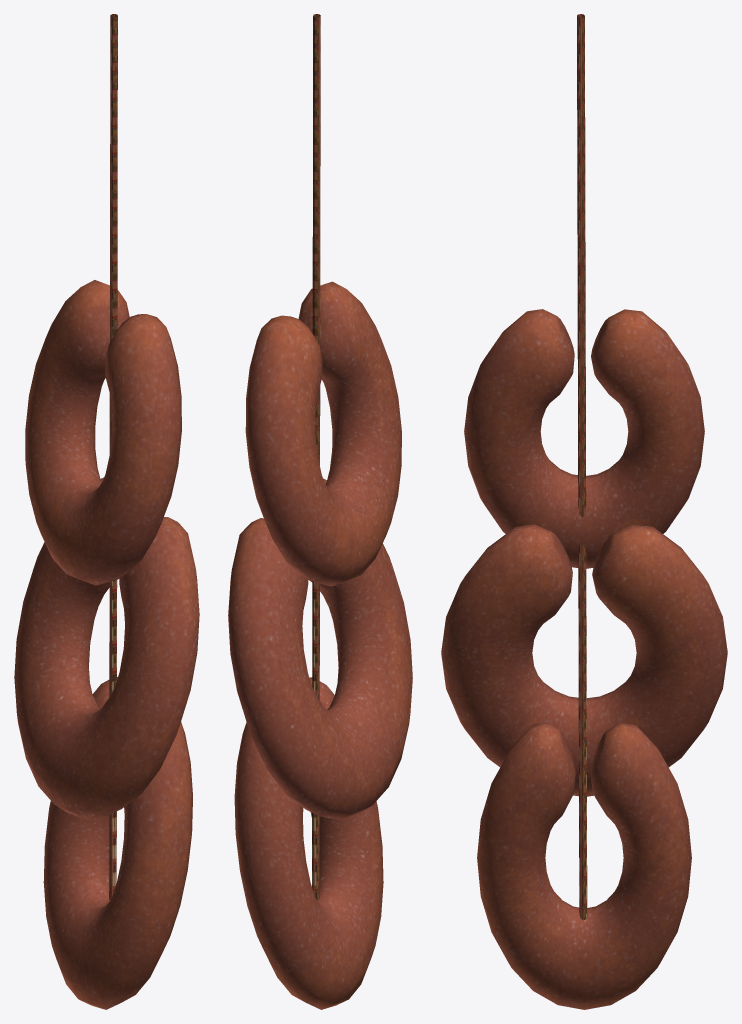
File: SM_Sausage.fbx
3 renders of one model, left to right at view 1: azimuth 30°, elevation 25°; view 2: azimuth 150°, elevation 25°; view 3: azimuth 270°, elevation 25°, orthographic.
Visible parts, largest first — view 1: SM_Sausage_LOD0; view 2: SM_Sausage_LOD0; view 3: SM_Sausage_LOD0.
Boxes of the visible parts, bbox=[...] form: SM_Sausage_LOD0: bbox=[14, 14, 199, 1009]; SM_Sausage_LOD0: bbox=[228, 14, 412, 1009]; SM_Sausage_LOD0: bbox=[441, 14, 727, 1009].
Size of the model in its own units: 49.78 by 107 by 411.
Materials: 1 (1 with a texture image).
